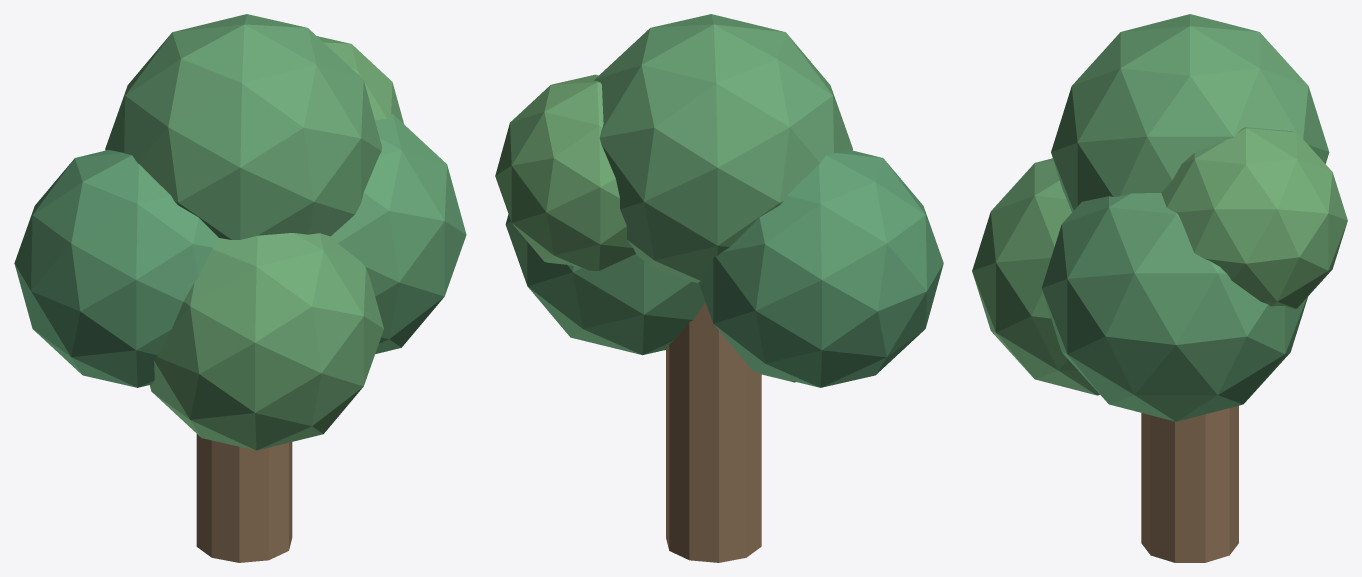
File: agac.glb
3 views of the same model, side by side, from view 1: azimuth 30°, elevation 25°; view 2: azimuth 150°, elevation 25°; view 3: azimuth 270°, elevation 25° (orthographic).
Parts seen in each view (by area): view 1: foliage-2, foliage-3, foliage-0, foliage-1, trunk, foliage-4; view 2: foliage-2, foliage-0, trunk, foliage-4, foliage-1; view 3: foliage-1, foliage-2, foliage-4, foliage-3, trunk.
Boxes of the visible parts, <box> form: foliage-2: <box>105,14,381,239</box>; foliage-3: <box>149,233,383,450</box>; foliage-0: <box>14,150,218,387</box>; foliage-1: <box>331,114,466,353</box>; trunk: <box>196,434,292,562</box>; foliage-4: <box>317,36,403,123</box>; foliage-2: <box>594,14,852,283</box>; foliage-0: <box>698,150,943,387</box>; trunk: <box>666,302,761,562</box>; foliage-4: <box>495,74,635,270</box>; foliage-1: <box>505,214,705,355</box>; foliage-1: <box>1041,193,1307,421</box>; foliage-2: <box>1051,14,1329,212</box>; foliage-4: <box>1161,127,1347,309</box>; foliage-3: <box>972,158,1099,395</box>; trunk: <box>1141,405,1238,562</box>.
Bounding box in the file's own units: 1.02 × 1.23 × 0.81.
